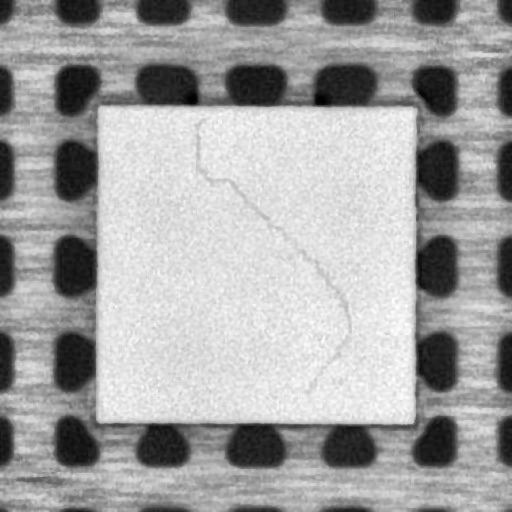DIE_CRACK: (191, 115, 352, 396)
